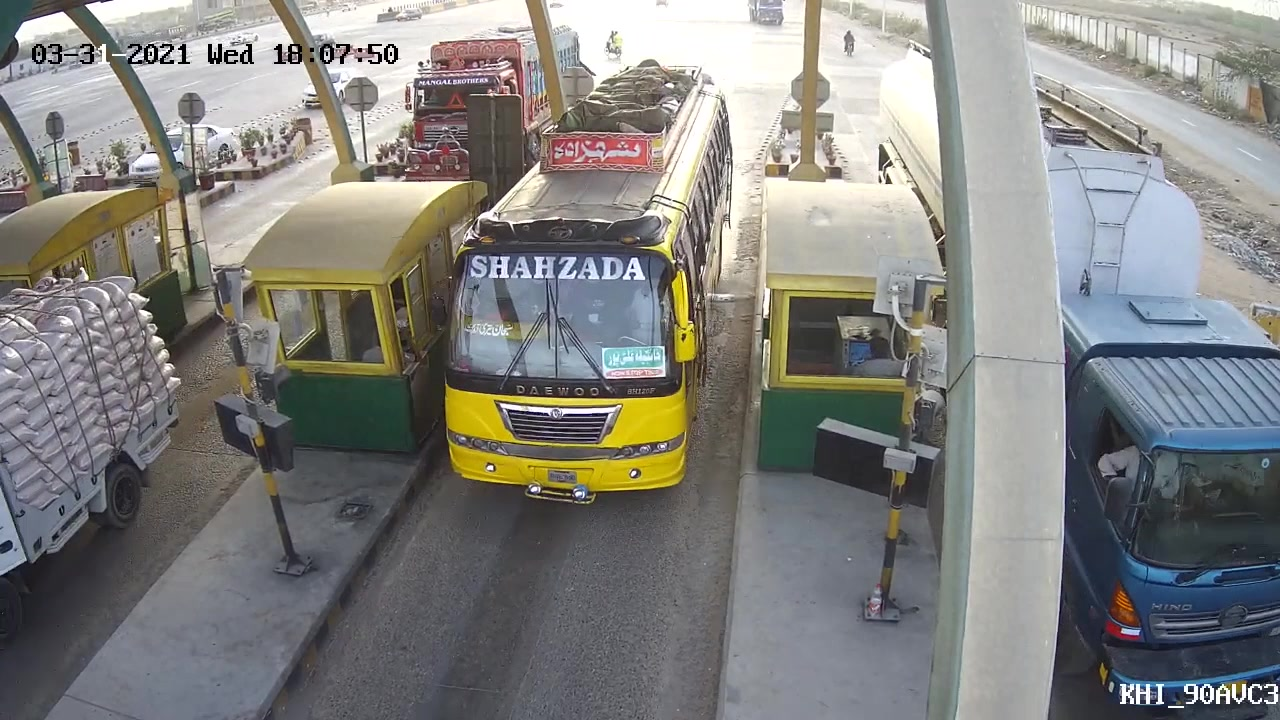F4: (422, 92, 734, 505)
